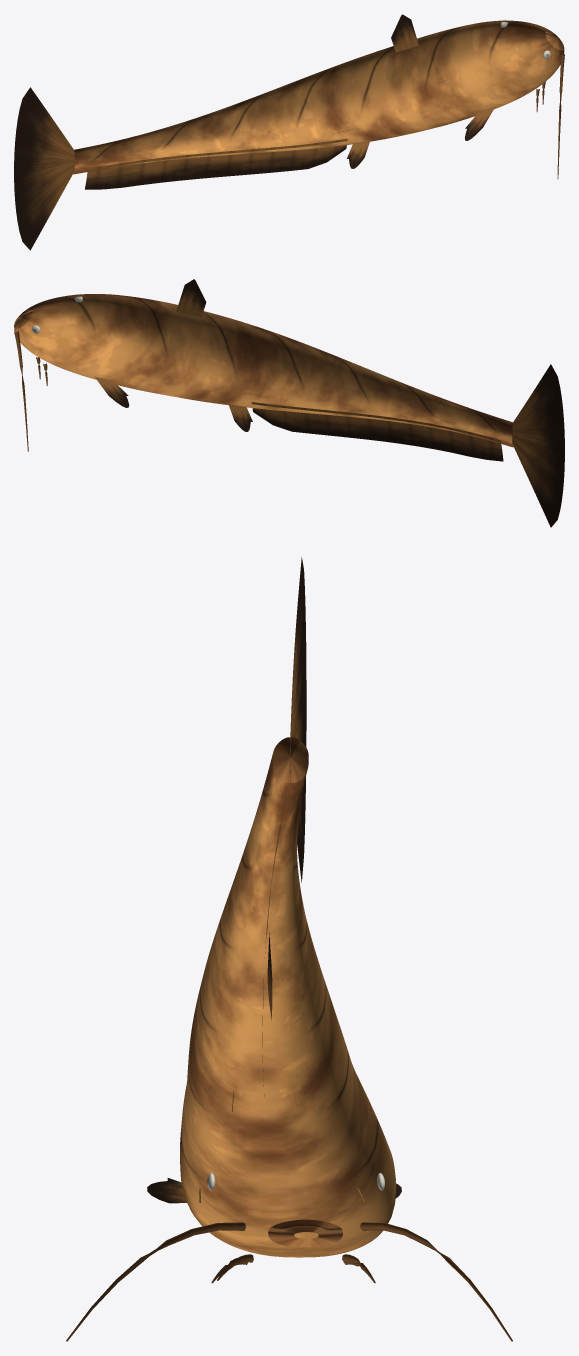
Rendered from fish_catfish_cooked.gltf.
3 renders of one model, top to bottom at view 1: azimuth 30°, elevation 25°; view 2: azimuth 150°, elevation 25°; view 3: azimuth 270°, elevation 25°, orthographic. The views are drawn at different scales.
Visible parts, largest first — view 1: fish_catfish_cooked; view 2: fish_catfish_cooked; view 3: fish_catfish_cooked.
Part boxes in pixels (left/top/right/bottom): fish_catfish_cooked: left=14, top=14, right=564, bottom=250; fish_catfish_cooked: left=14, top=279, right=564, bottom=527; fish_catfish_cooked: left=66, top=557, right=512, bottom=1341.
Size of the model in its own units: 1.1 by 0.3172 by 0.3918.
Materials: 7 (4 with a texture image).
